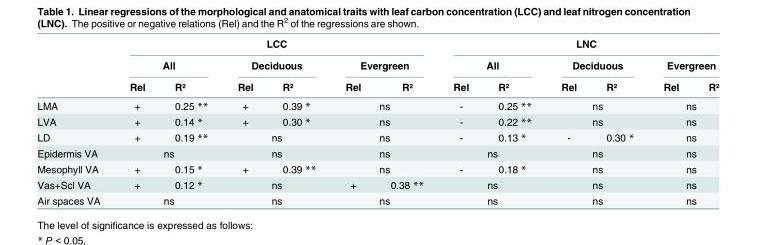table: (36, 37, 718, 205)
table column: (36, 37, 114, 205), (159, 37, 222, 205), (374, 37, 437, 205), (482, 37, 545, 205), (267, 37, 329, 205), (590, 37, 648, 205), (114, 37, 159, 205), (222, 37, 267, 205), (329, 37, 374, 205), (437, 37, 482, 205), (545, 37, 590, 205), (648, 37, 693, 205), (693, 37, 718, 205)
table column header: (36, 37, 718, 95)
table row: (36, 53, 718, 75), (36, 75, 718, 95), (36, 95, 718, 113), (36, 37, 718, 53), (36, 113, 718, 129), (36, 129, 718, 145), (36, 160, 718, 176), (36, 176, 718, 192), (36, 145, 718, 160), (36, 192, 718, 205)
table spanning cell: (114, 37, 437, 53), (437, 37, 718, 53), (114, 53, 222, 75), (329, 53, 437, 75), (437, 53, 545, 75), (222, 53, 329, 75), (545, 53, 648, 75), (329, 95, 437, 113), (545, 95, 648, 113), (329, 113, 437, 129), (329, 129, 437, 145), (329, 160, 437, 176), (437, 176, 545, 192), (222, 129, 329, 145), (222, 176, 329, 192), (545, 113, 648, 129), (545, 160, 648, 176), (545, 176, 648, 192), (114, 145, 222, 160), (329, 145, 437, 160), (437, 145, 545, 160), (222, 145, 329, 160), (545, 145, 648, 160), (648, 53, 718, 75), (114, 192, 222, 205), (329, 192, 437, 205), (437, 192, 545, 205), (222, 192, 329, 205), (545, 192, 648, 205), (648, 95, 718, 113), (648, 113, 718, 129), (648, 129, 718, 145), (648, 160, 718, 176), (648, 176, 718, 192), (648, 145, 718, 160), (648, 192, 718, 205)
